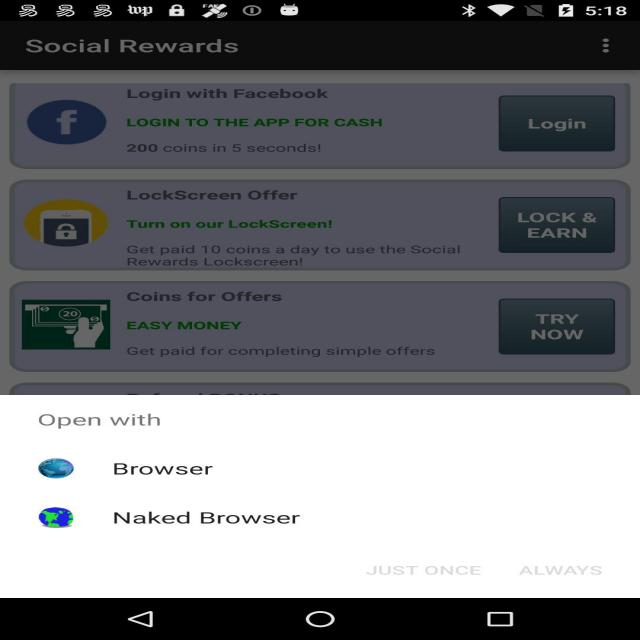button: (489, 89, 640, 163), (483, 293, 627, 367), (474, 185, 612, 260), (566, 29, 636, 61)
icon: (6, 177, 120, 257), (0, 292, 123, 355), (16, 86, 110, 148), (23, 454, 112, 489), (26, 505, 92, 540)
text: (120, 334, 459, 382), (123, 234, 483, 274), (118, 122, 370, 165), (15, 31, 340, 62), (120, 112, 422, 141), (19, 404, 254, 435), (112, 305, 303, 342), (112, 81, 360, 108), (110, 506, 302, 532), (107, 454, 244, 489), (123, 214, 360, 233), (118, 177, 332, 198), (113, 285, 314, 299)
